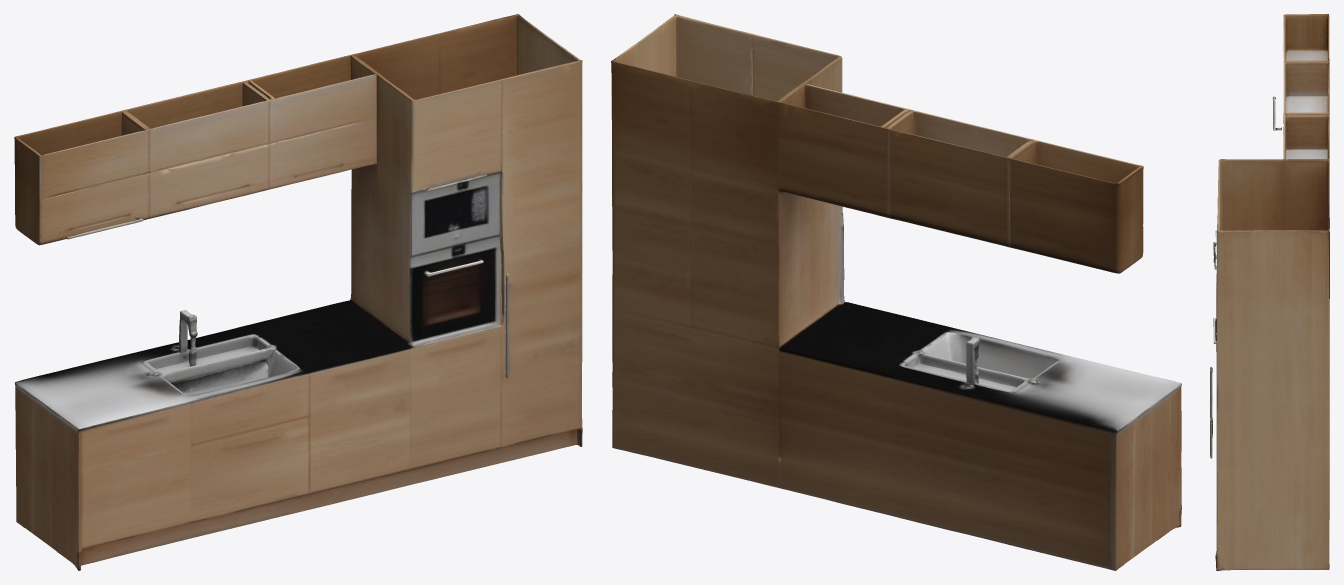
The model's file is kitchen-counter.glb.
The picture shows the model from 3 angles, left to right: view 1: azimuth 30°, elevation 25°; view 2: azimuth 150°, elevation 25°; view 3: azimuth 270°, elevation 25°; orthographic projection. The views are drawn at different scales.
Parts seen in each view (by area): view 1: kitchen_s42_m.glb; view 2: kitchen_s42_m.glb; view 3: kitchen_s42_m.glb.
Boxes of the visible parts, left/top/right/bottom form: kitchen_s42_m.glb: left=14, top=14, right=582, bottom=570; kitchen_s42_m.glb: left=611, top=14, right=1181, bottom=570; kitchen_s42_m.glb: left=1210, top=14, right=1329, bottom=570.
Bounding box in the file's own units: 3 × 2.2 × 0.7.
Materials: 1 (1 with a texture image).
